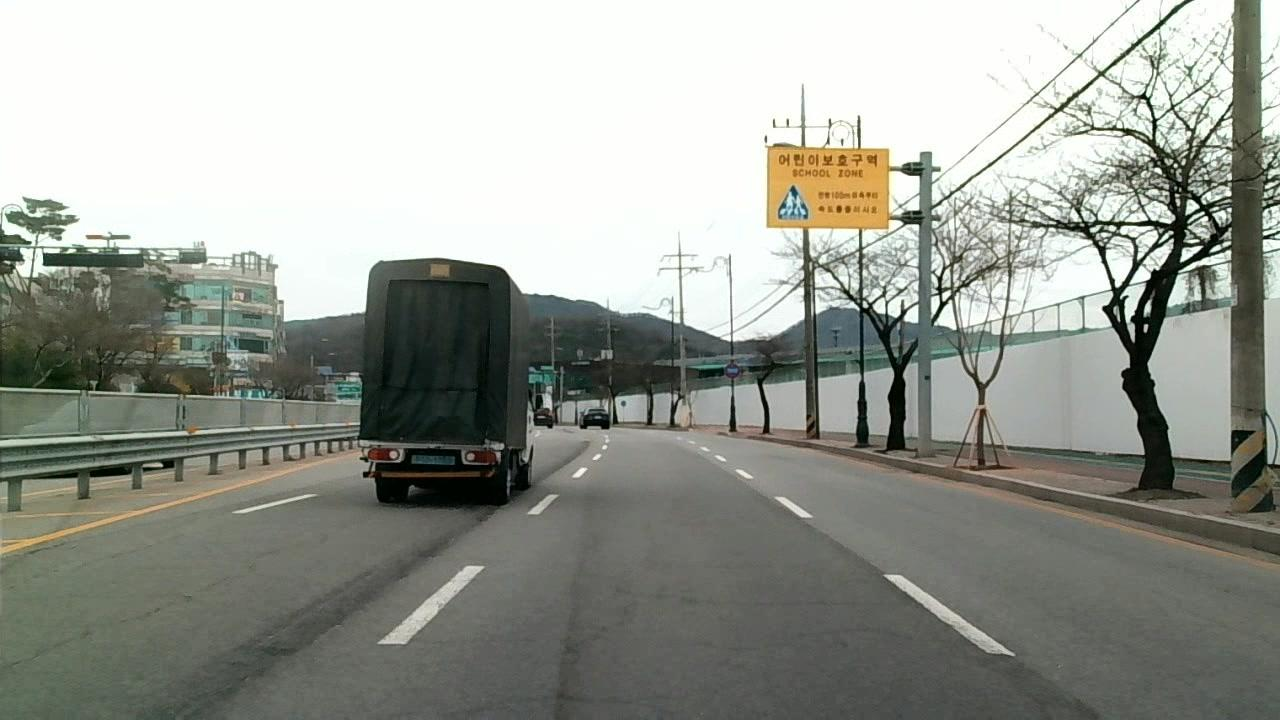banner: (206, 635, 314, 720), (407, 505, 502, 567), (806, 522, 880, 573), (555, 617, 583, 716)
